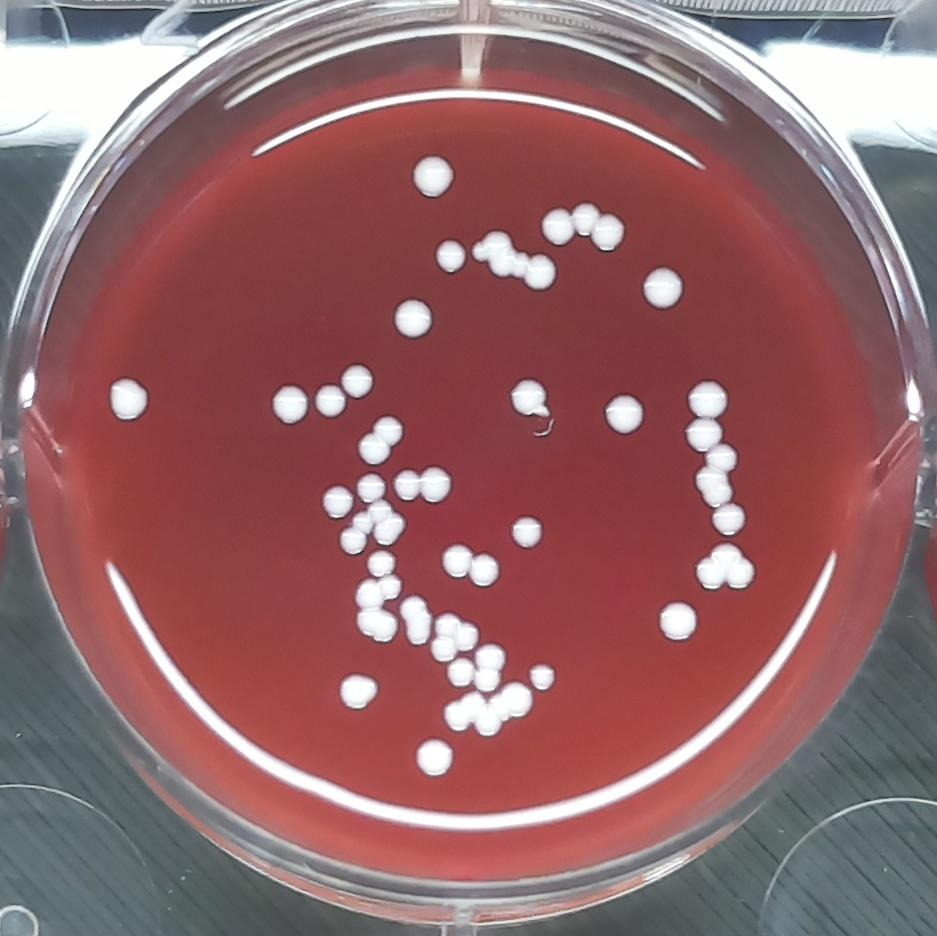staphylo-: (678, 369, 751, 539), (470, 225, 561, 296), (535, 194, 630, 255), (443, 680, 538, 740), (352, 547, 405, 642), (687, 537, 761, 594), (445, 639, 512, 692), (437, 539, 502, 589), (355, 409, 408, 469), (426, 610, 483, 659), (356, 495, 410, 546), (633, 262, 688, 312), (598, 385, 649, 438), (652, 595, 703, 646), (392, 465, 456, 505), (387, 293, 437, 344), (264, 377, 311, 428), (105, 374, 152, 425), (408, 151, 460, 197), (508, 371, 555, 421), (395, 592, 435, 646), (336, 670, 383, 713), (412, 734, 454, 781), (335, 357, 379, 401), (508, 510, 548, 551), (316, 480, 357, 520), (310, 380, 349, 421), (433, 234, 469, 277), (354, 470, 390, 504), (526, 658, 558, 693), (336, 523, 369, 554)
